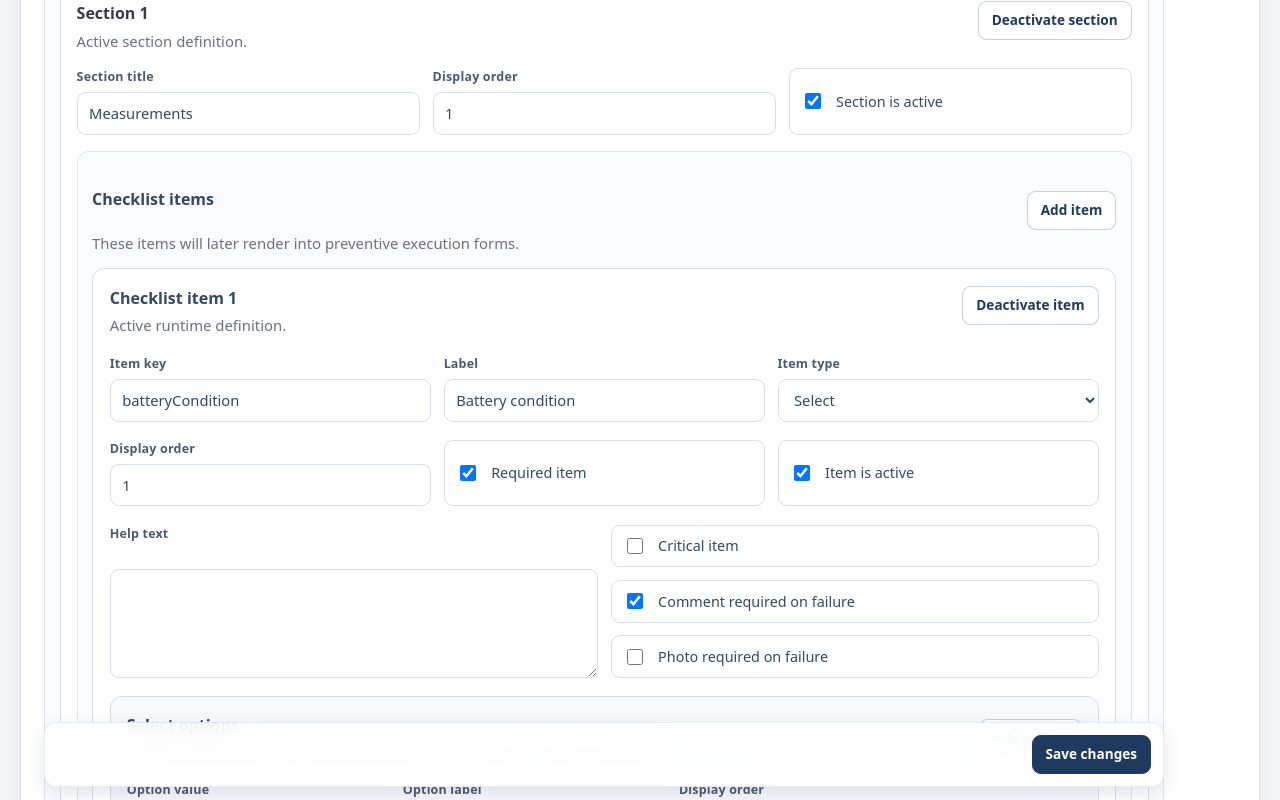
PreventiveTemplateForm › should hide the options editor when the item type is changed away from select
(page scrolled)
Check: the heading "Select options" is shown, box [127,714,239,736]
Select "Yes / No" in the dropdown labelled "Item type": (938, 400) [778,379,1099,422]
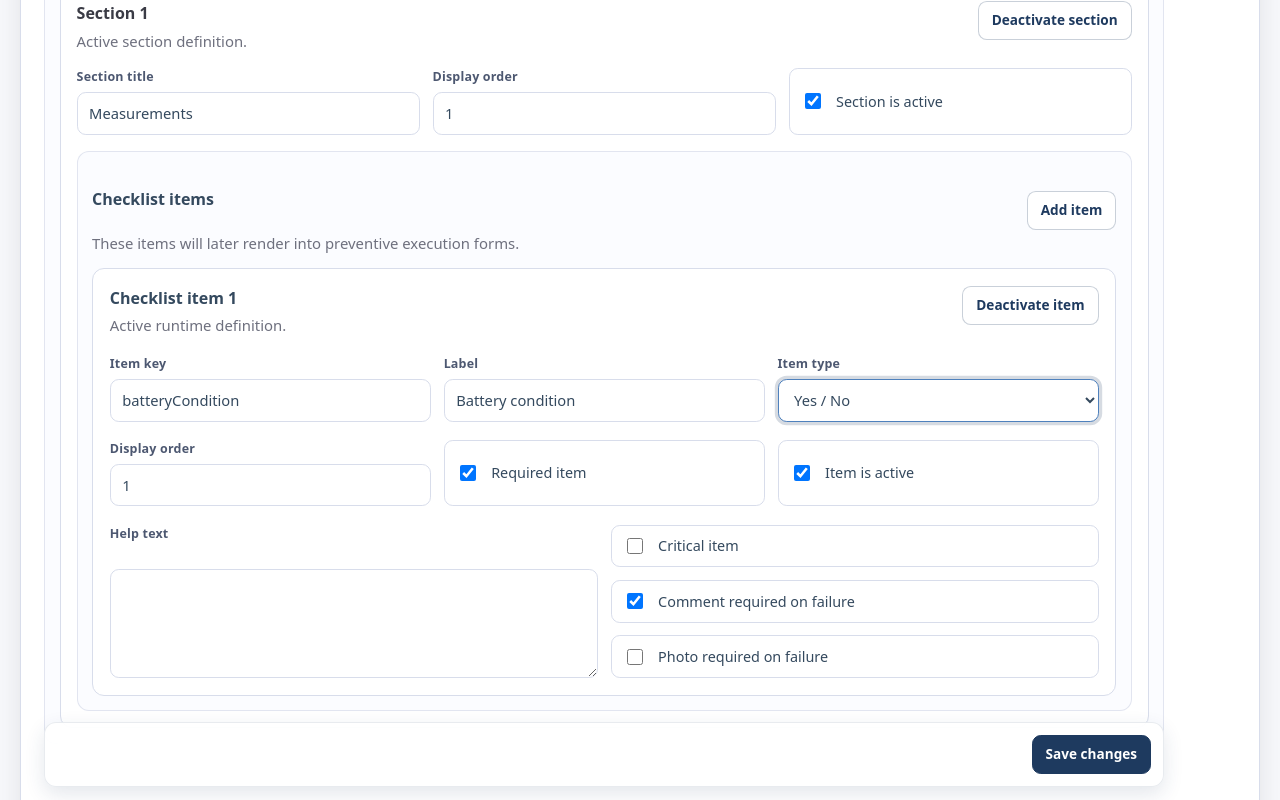
Check: the heading "Select options" is gone
